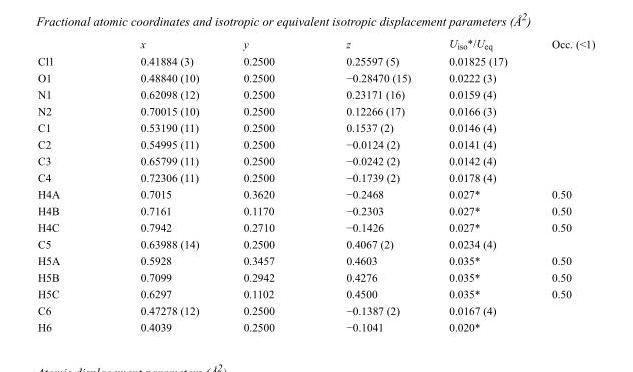table: (37, 36, 594, 333)
table column: (99, 36, 220, 333), (309, 36, 429, 333), (429, 36, 528, 333), (220, 36, 309, 333), (528, 36, 594, 333), (37, 36, 99, 333)
table column header: (37, 36, 594, 52)
table row: (37, 52, 594, 69), (37, 85, 594, 102), (37, 118, 594, 135), (37, 135, 594, 152), (37, 168, 594, 185), (37, 185, 594, 202), (37, 218, 594, 235), (37, 251, 594, 268), (37, 268, 594, 285), (37, 301, 594, 318), (37, 36, 594, 52), (37, 69, 594, 85), (37, 102, 594, 118), (37, 152, 594, 168), (37, 202, 594, 218), (37, 235, 594, 251), (37, 285, 594, 301), (37, 318, 594, 333)
